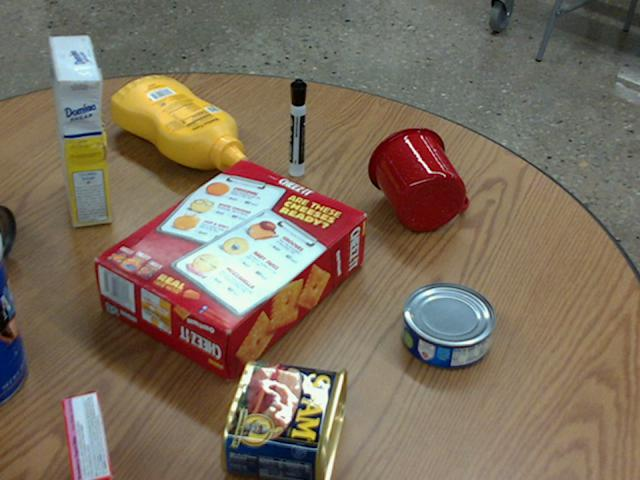cracker_box: (96, 160, 366, 379)
gelatin_box: (62, 388, 114, 479)
large_marker: (288, 79, 306, 175)
master_chef_can: (0, 245, 26, 401)
mug: (367, 126, 468, 231)
mustard_bottle: (111, 76, 246, 170)
potted_meat_can: (219, 359, 346, 479)
sugar_box: (51, 36, 109, 225)
tomato_soup_can: (0, 203, 15, 262)
tuna_fish_can: (401, 282, 495, 368)
